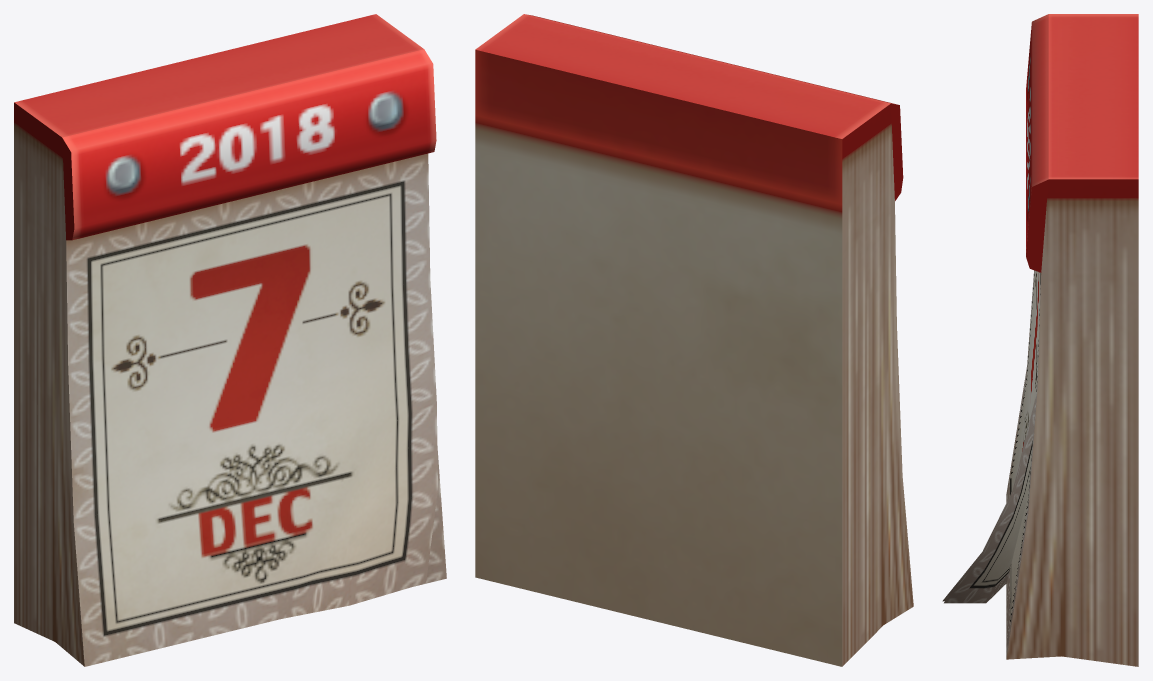
Rendered from WuZhengDiaoChaKe_01_rili_01.FBX.
3 views of the same model, side by side, from view 1: azimuth 30°, elevation 25°; view 2: azimuth 150°, elevation 25°; view 3: azimuth 270°, elevation 25° (orthographic). The views are drawn at different scales.
Parts seen in each view (by area): view 1: WuZhengDiaoChaKe_01_rili_01; view 2: WuZhengDiaoChaKe_01_rili_01; view 3: WuZhengDiaoChaKe_01_rili_01.
Boxes of the visible parts, box(x1,y1,x2,y2) form: WuZhengDiaoChaKe_01_rili_01: box(14, 14, 446, 666); WuZhengDiaoChaKe_01_rili_01: box(475, 14, 913, 666); WuZhengDiaoChaKe_01_rili_01: box(942, 14, 1138, 666).
Bounding box in the file's own units: 93.89 × 129 × 47.12.
Materials: 1 (1 with a texture image).
